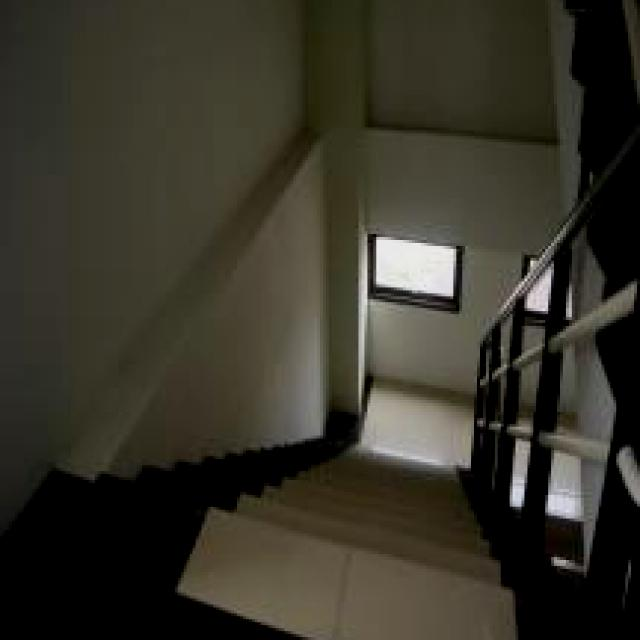downstair: (250, 455, 457, 597)
